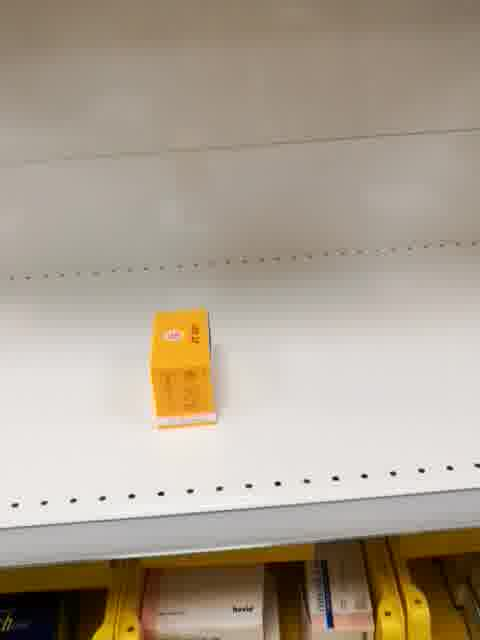jasminetea: (148, 305, 219, 429)
